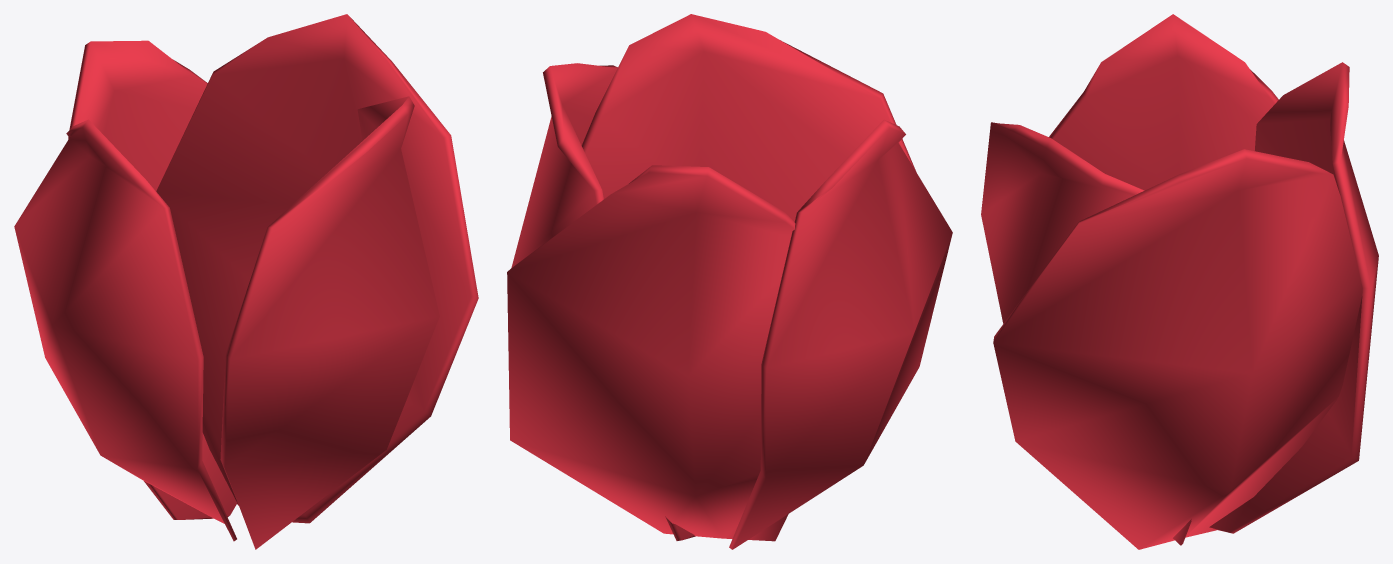
File: rose.fbx
3 renders of one model, left to right at view 1: azimuth 30°, elevation 25°; view 2: azimuth 150°, elevation 25°; view 3: azimuth 270°, elevation 25°, orthographic.
Visible parts, largest first — view 1: petel 1, petel 4, petel 2, petel 3; view 2: petel 3, petel 2, petel 1, petel 4; view 3: petel 4, petel 2, petel 3, petel 1.
Boxes of the visible parts, x1=… form: petel 1: x1=220, y1=96, x2=439, y2=549; petel 4: x1=156, y1=14, x2=478, y2=523; petel 2: x1=14, y1=119, x2=236, y2=541; petel 3: x1=68, y1=40, x2=237, y2=519; petel 3: x1=507, y1=165, x2=795, y2=541; petel 2: x1=729, y1=119, x2=952, y2=549; petel 1: x1=581, y1=14, x2=916, y2=221; petel 4: x1=511, y1=63, x2=695, y2=540; petel 4: x1=993, y1=149, x2=1362, y2=549; petel 2: x1=1049, y1=14, x2=1278, y2=190; petel 3: x1=1209, y1=62, x2=1378, y2=533; petel 1: x1=981, y1=122, x2=1191, y2=545.
Bounding box in the file's own units: 75.64 × 90.38 × 72.5.
